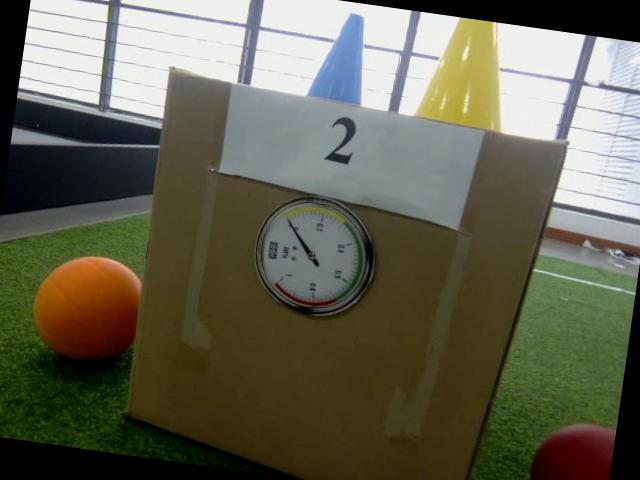2: (321, 114, 359, 170)
Dashboard: (243, 187, 384, 326)
blue_barrel: (304, 6, 376, 107)
orange_ball: (26, 250, 146, 366)
red_ball: (524, 415, 617, 480)
ssi: (267, 240, 279, 262)
yellow_barrel: (411, 12, 521, 137)
